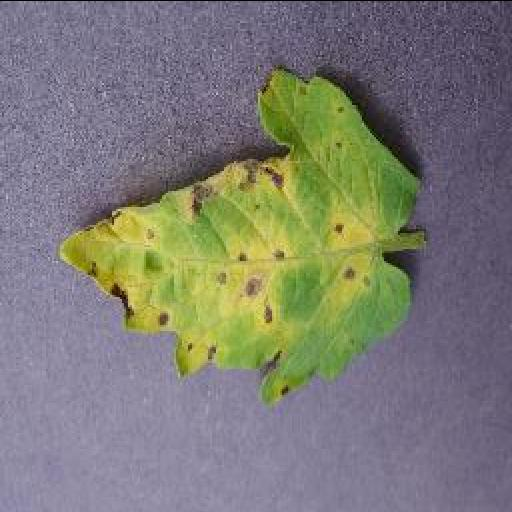disease_tomato: (54, 66, 422, 400)
